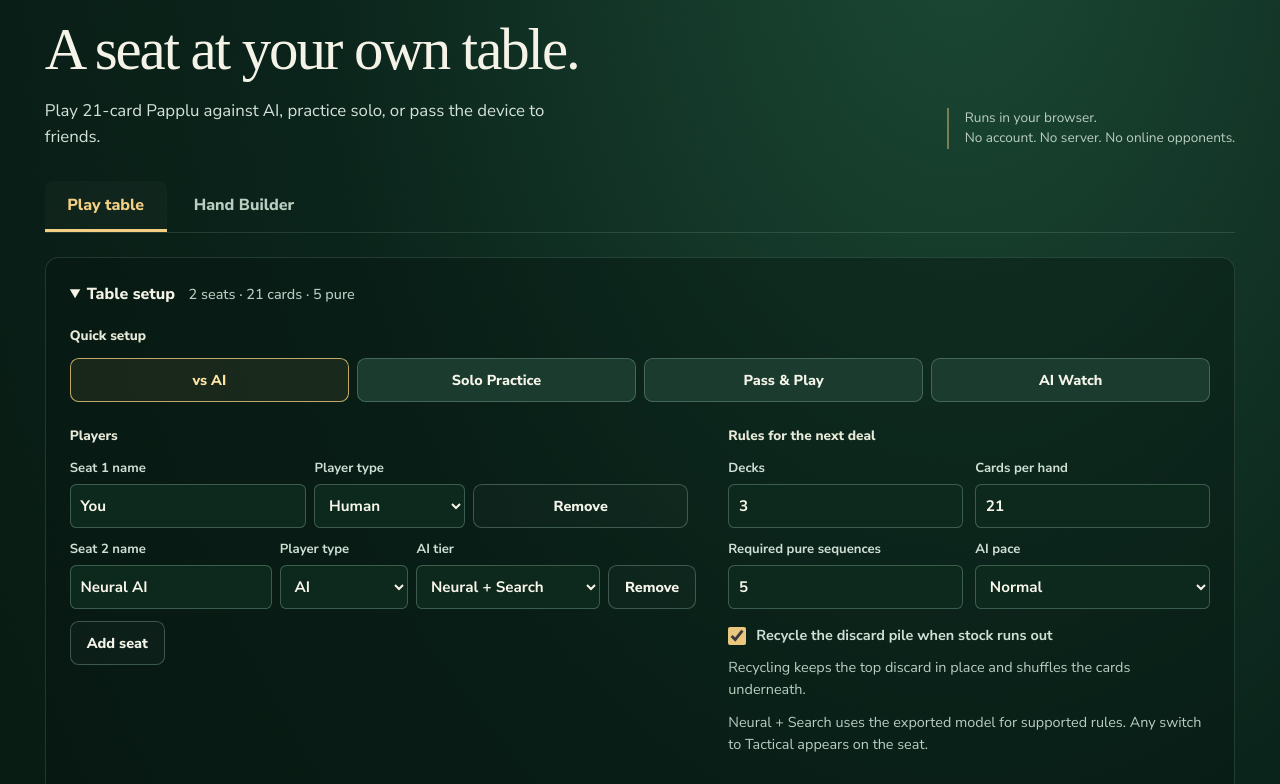
Scenario: Hand Builder returns actual valid and invalid 21-card evaluations with minimum deadwood
Click the tab "Hand Builder" at [244, 206], box [171,181,316,232]
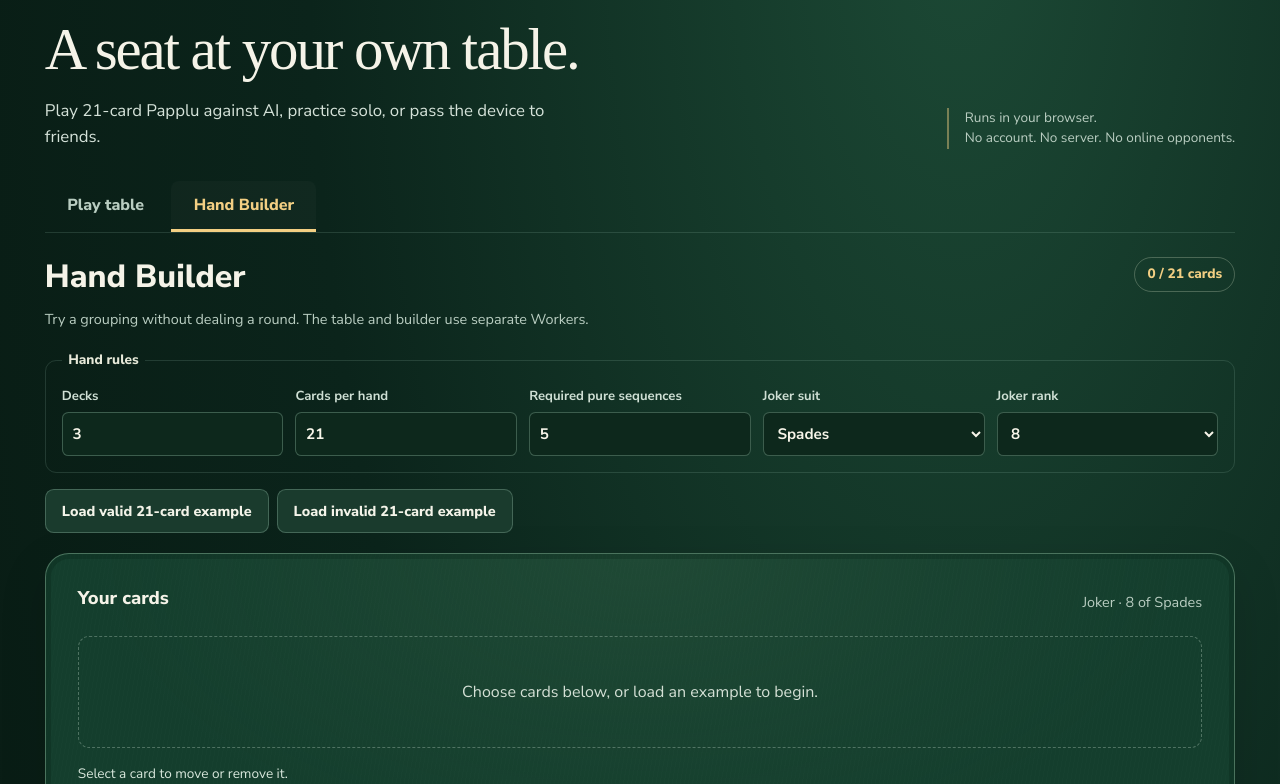
Click the button "Load valid 21-card example" at [157, 511], box [45,489,269,533]
(page scrolled)
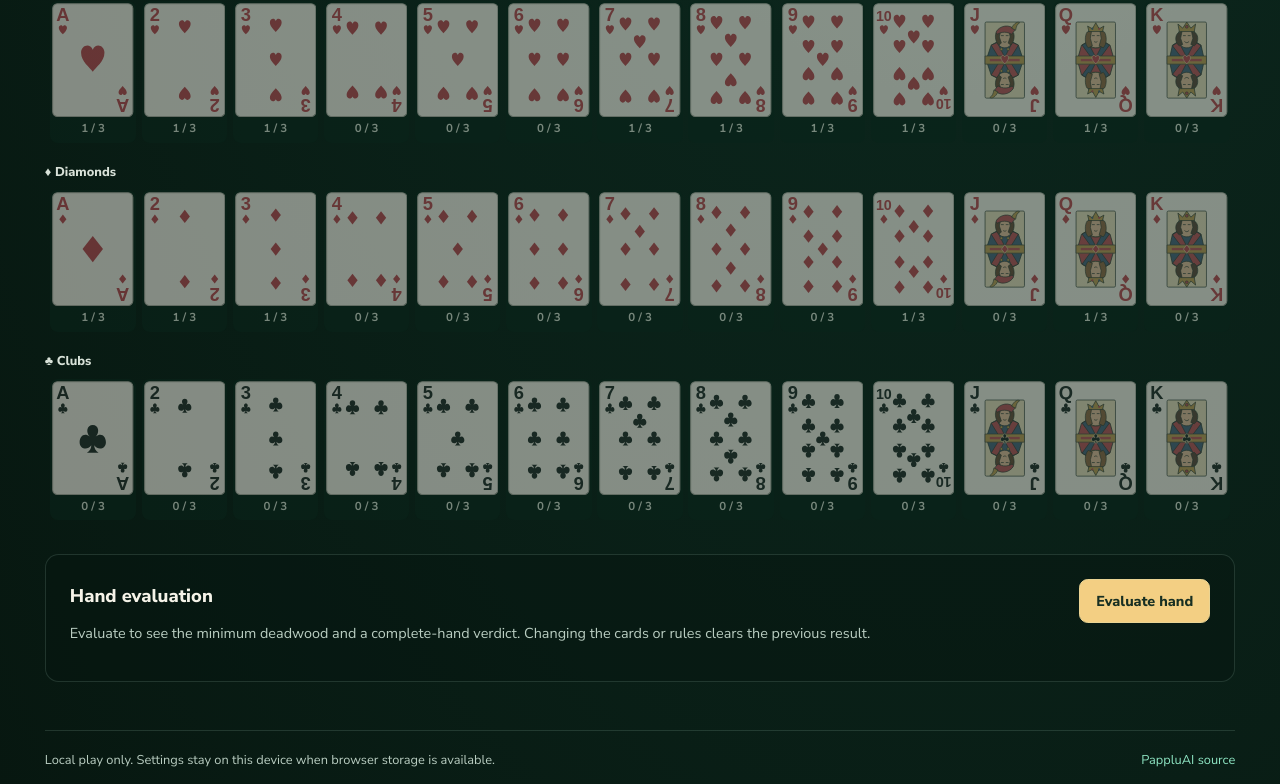
Click the button "Evaluate hand" at [1145, 601], box [1079,579,1210,623]
(page scrolled)
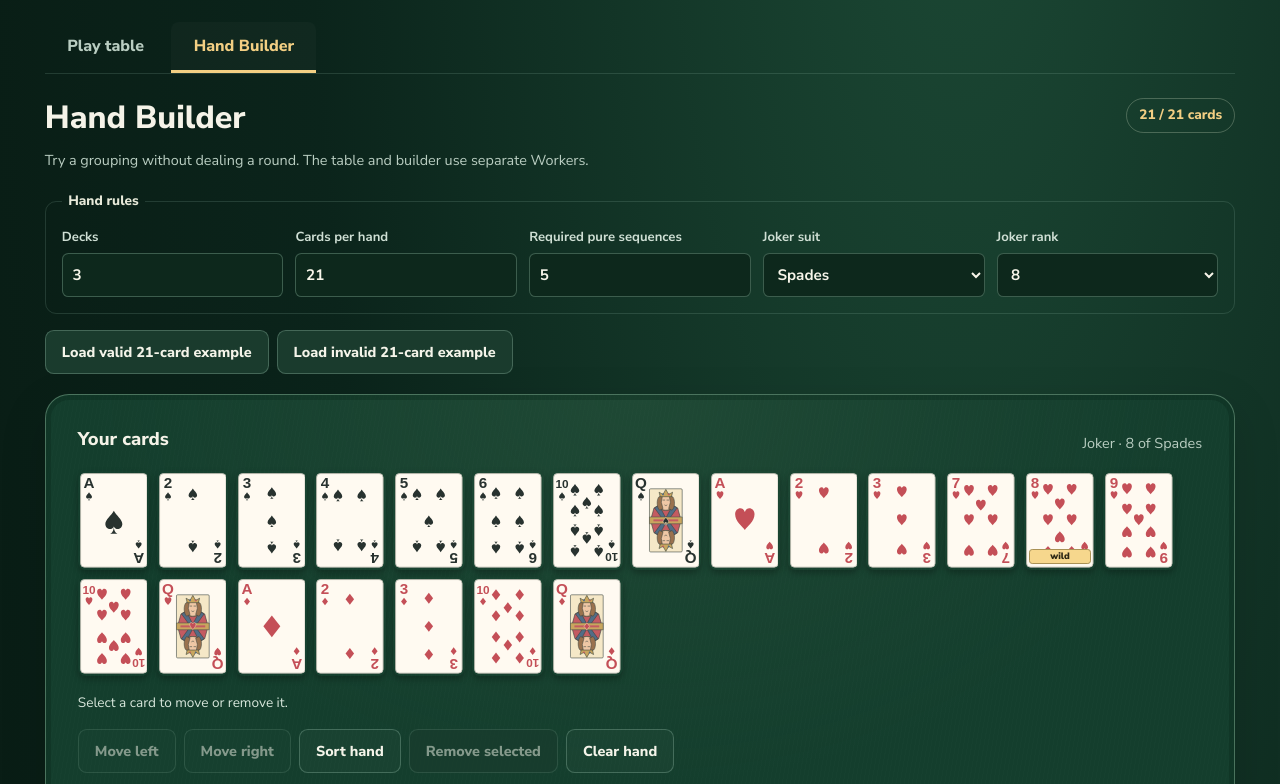
Click the button "Load invalid 21-card example" at [395, 352], box [277,330,513,374]
(page scrolled)
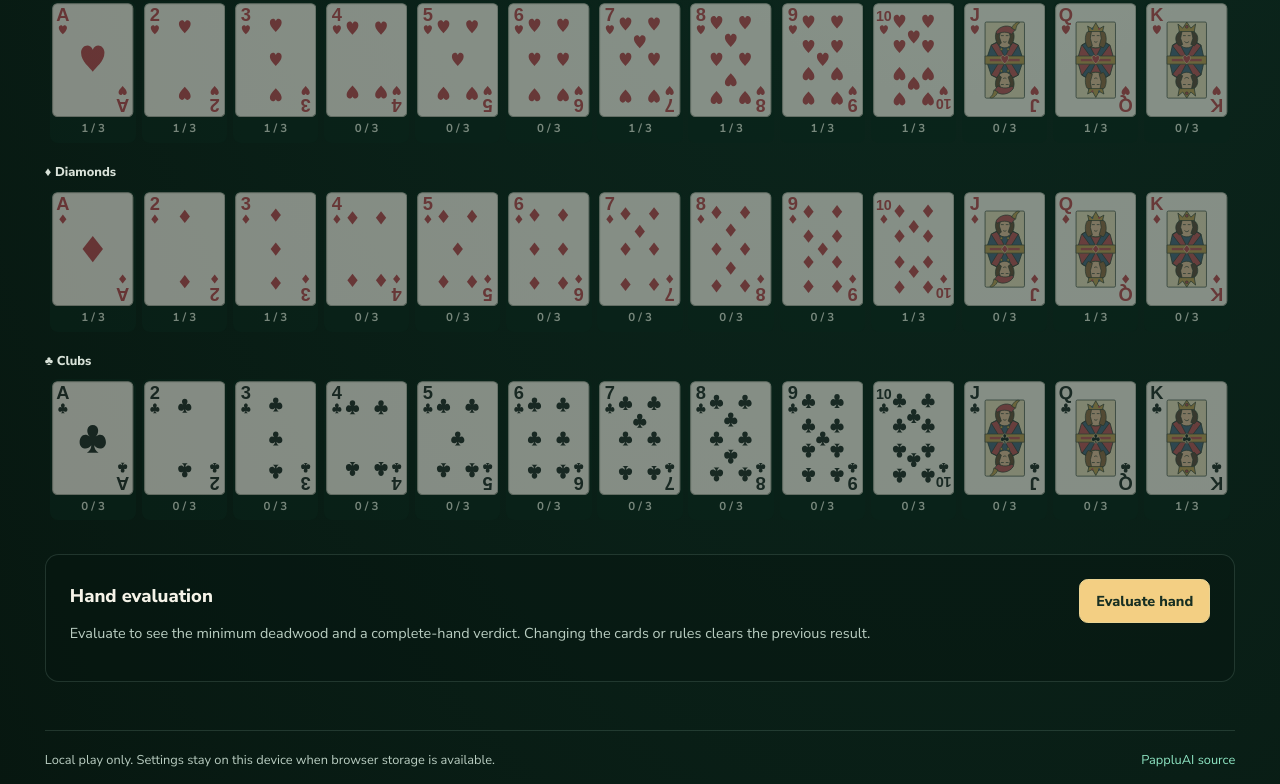
Click the button "Evaluate hand" at [1145, 601], box [1079,579,1210,623]
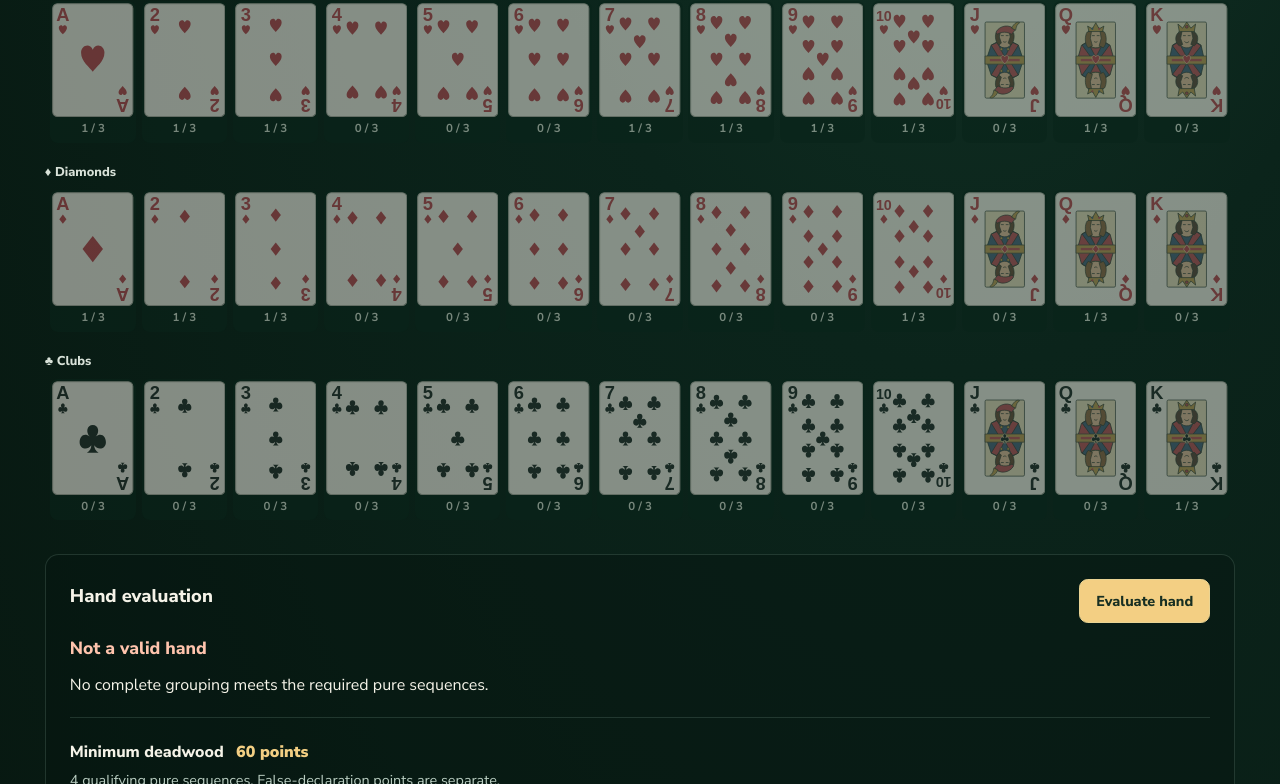
Expected: the text "Not a valid hand" is shown, [70,636,207,660]
Expected: the heading "Minimum deadwood 60 points" is shown, [70,742,308,764]
